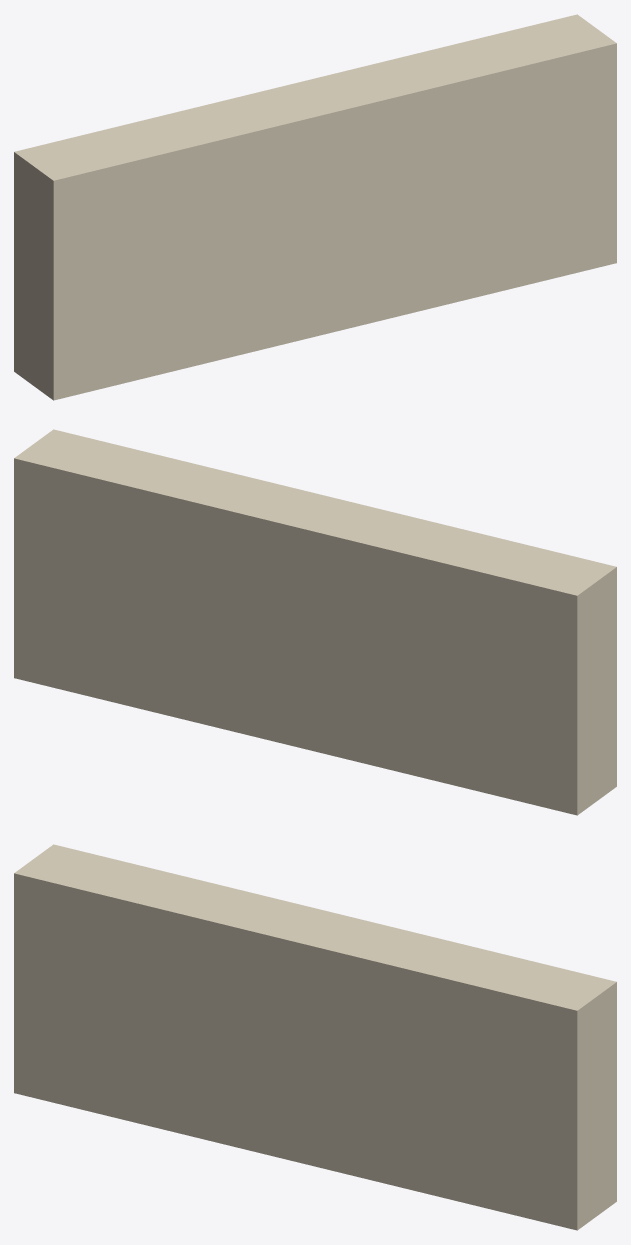
3 renders of one model, top to bottom at view 1: azimuth 30°, elevation 25°; view 2: azimuth 150°, elevation 25°; view 3: azimuth 330°, elevation 25°, orthographic.
Parts seen in each view (by area): view 1: A-GF-WINDOW-004-SILL; view 2: A-GF-WINDOW-004-SILL; view 3: A-GF-WINDOW-004-SILL.
Boxes of the visible parts, x1,y1,x2,y2 form: A-GF-WINDOW-004-SILL: (14, 14, 616, 400); A-GF-WINDOW-004-SILL: (14, 429, 616, 815); A-GF-WINDOW-004-SILL: (14, 844, 616, 1230).
Size of the model in its own units: 2.2 by 0.82 by 0.2678.
